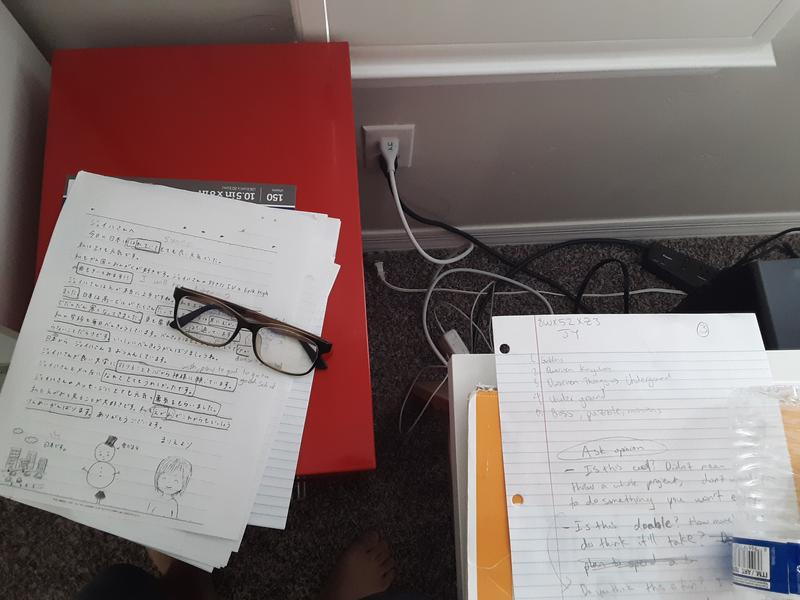glasses: (167, 283, 335, 379)
